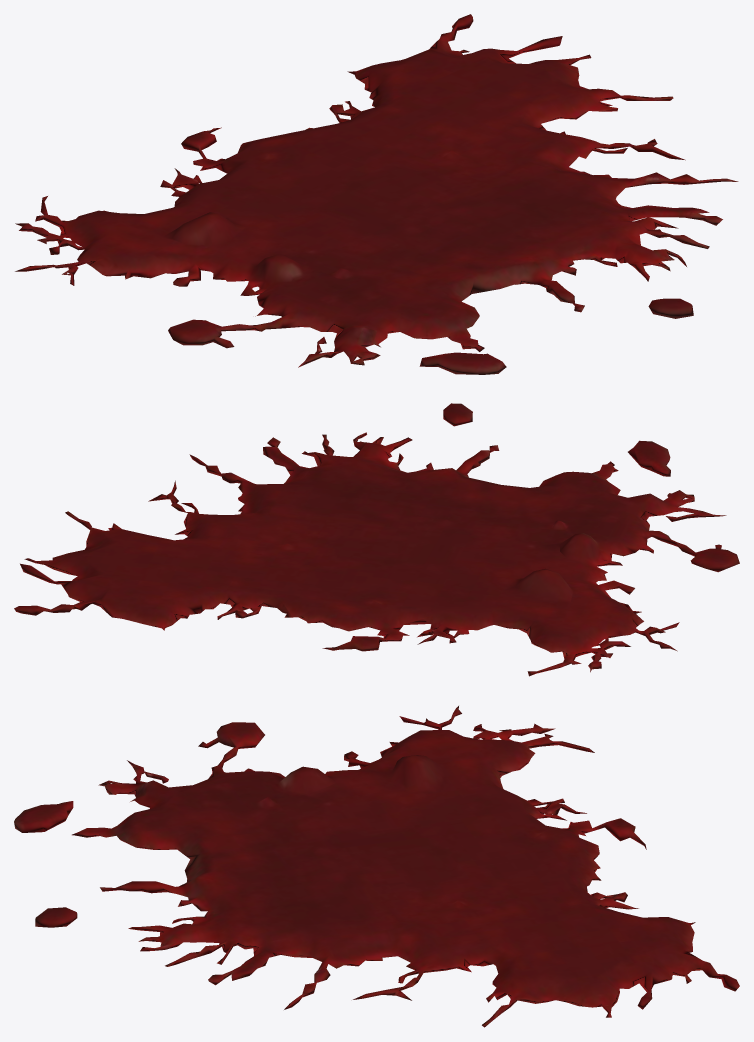
Rendered from blood_pool.glb.
The picture shows the model from 3 angles, top to bottom: view 1: azimuth 30°, elevation 25°; view 2: azimuth 150°, elevation 25°; view 3: azimuth 270°, elevation 25°; orthographic projection. The views are drawn at different scales.
Parts seen in each view (by area): view 1: frame; view 2: frame; view 3: frame.
Boxes of the visible parts, bbox=[...] form: frame: bbox=[15, 14, 738, 374]; frame: bbox=[14, 403, 739, 676]; frame: bbox=[14, 706, 739, 1027].
Bounding box in the file's own units: 0.9975 × 0.0514 × 0.9503.
Materials: 1 (1 with a texture image).
